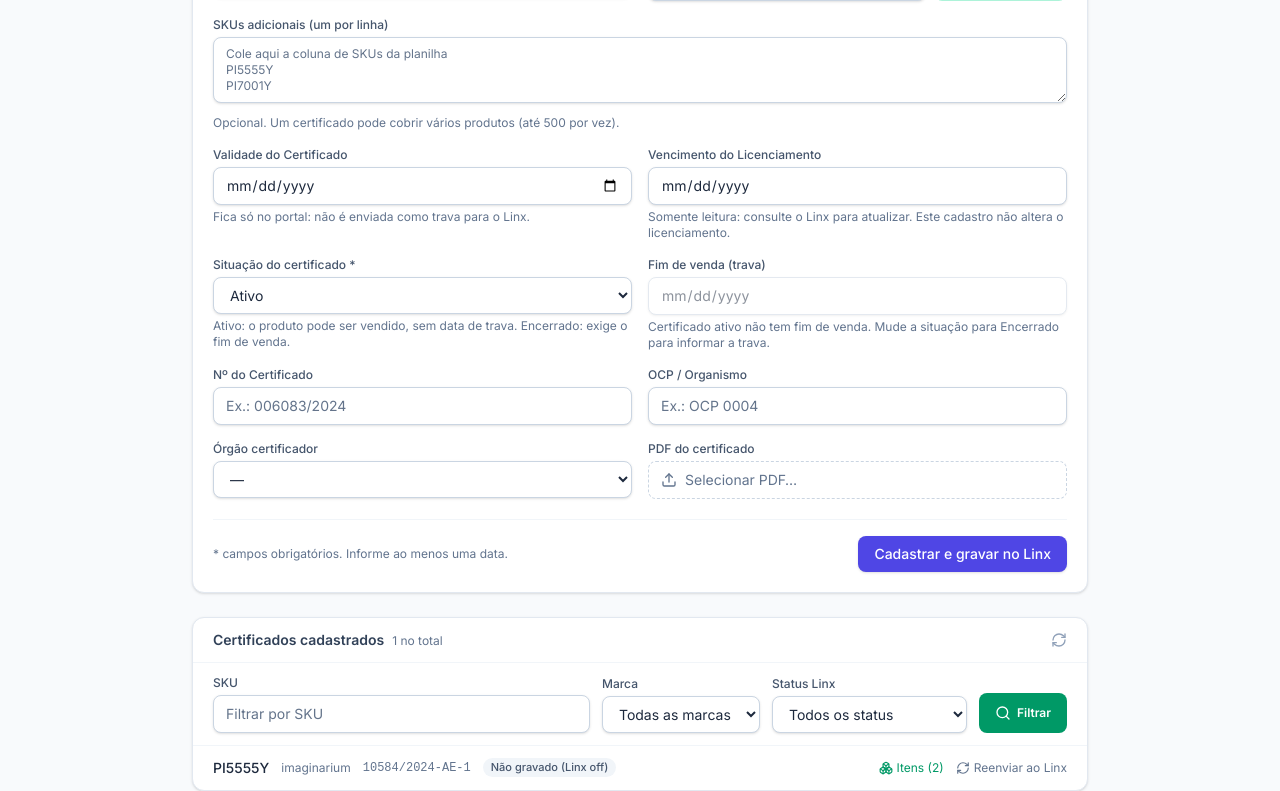
CertCadastroPage — fim de venda e itens (D11) › avisa que a remocao nao mexe na trava ja gravada no Linx
(page scrolled)
What coordinates should you click on to do the following:
click the button "Itens (2)"
I would click on:
 (911, 768)
Its box is [878,760,944,776].
(page scrolled)
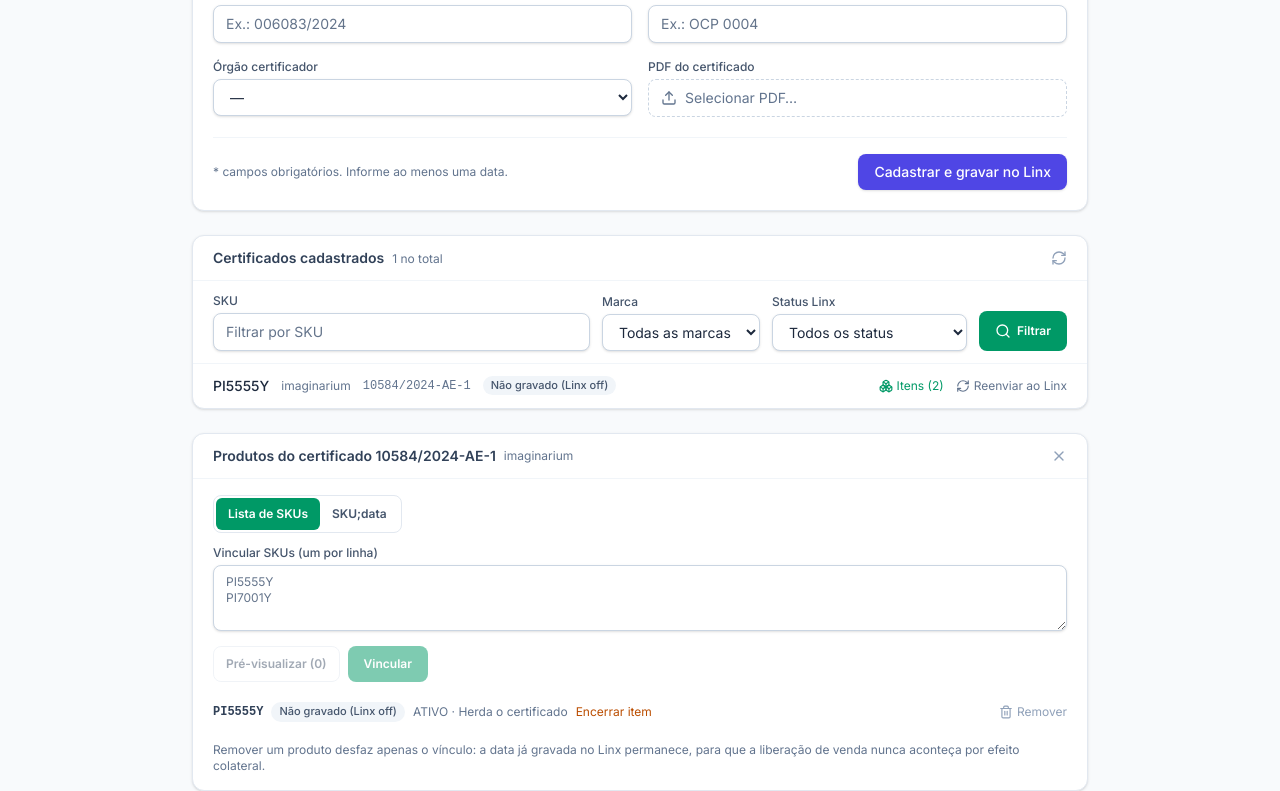
Check: the text "a data já gravada no Linx permanece" is shown, box [213,742,1019,773]
